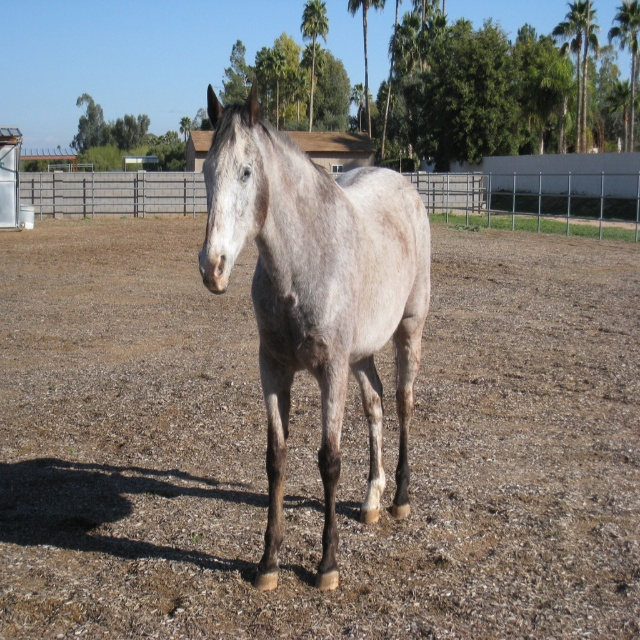Horse: (196, 82, 431, 592)
